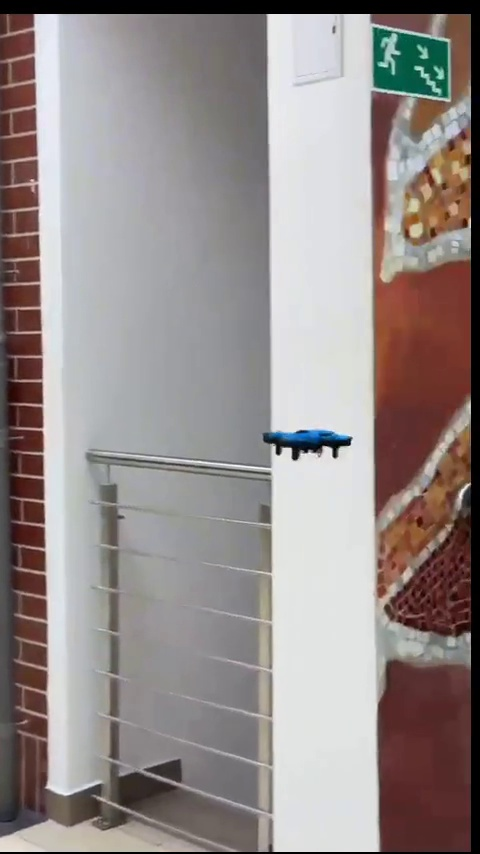drone: (265, 424, 354, 464)
